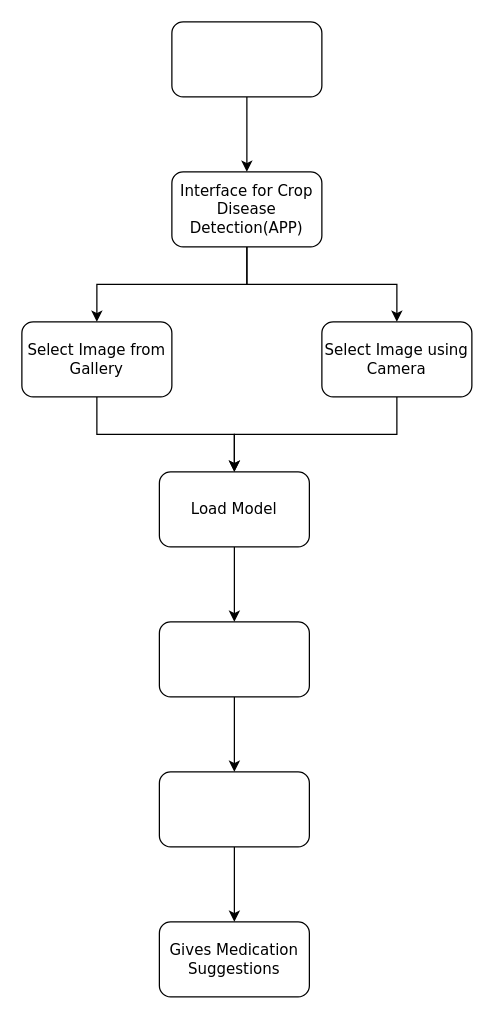
Some shapes in this 494 by 1019 pixel diagram are drawn without their labels. The shapes that lost their labels are listed below. From the top down, each one's box as (x1, y1, x2, y2) in pixels, then its label:
(171, 21, 322, 97): Collect User Data
(158, 621, 309, 697): Detect Disease
(158, 771, 309, 847): Display Ouput
